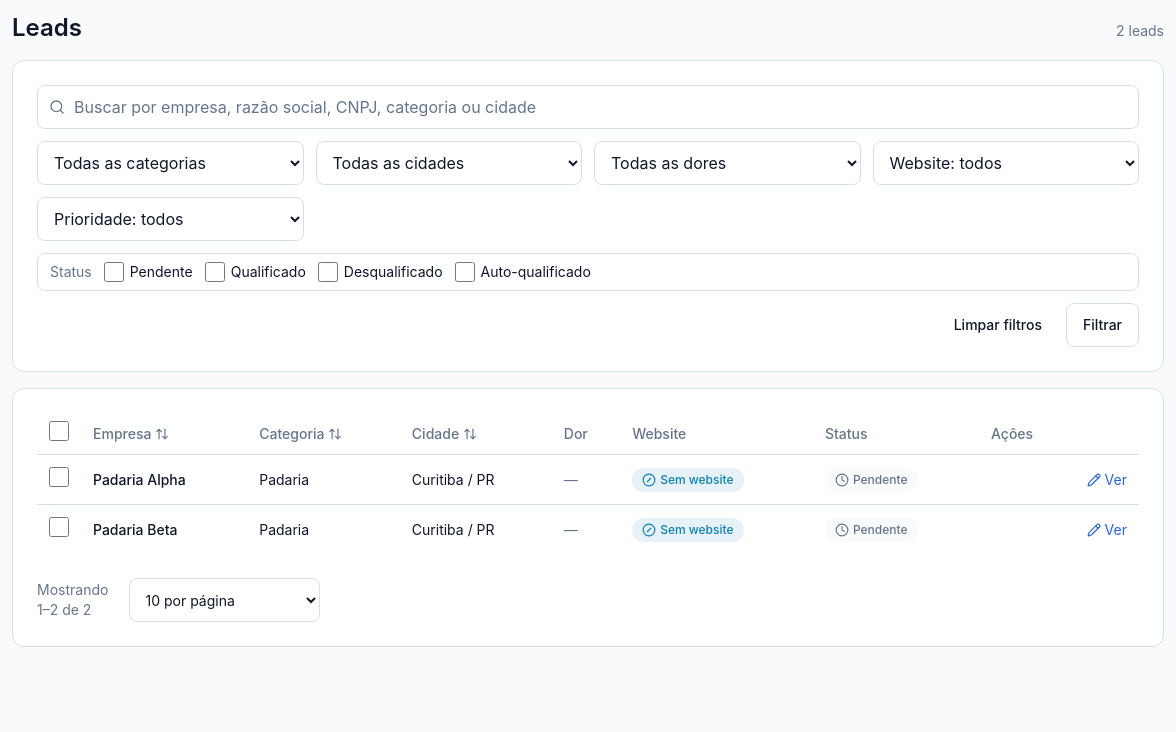
Test: LeadsPage › selects rows and updates the selection bar
This screenshot has width=1176, height=732.
Click the checkbox named "Selecionar todos da página" at (59, 431), box [49,421,69,441]
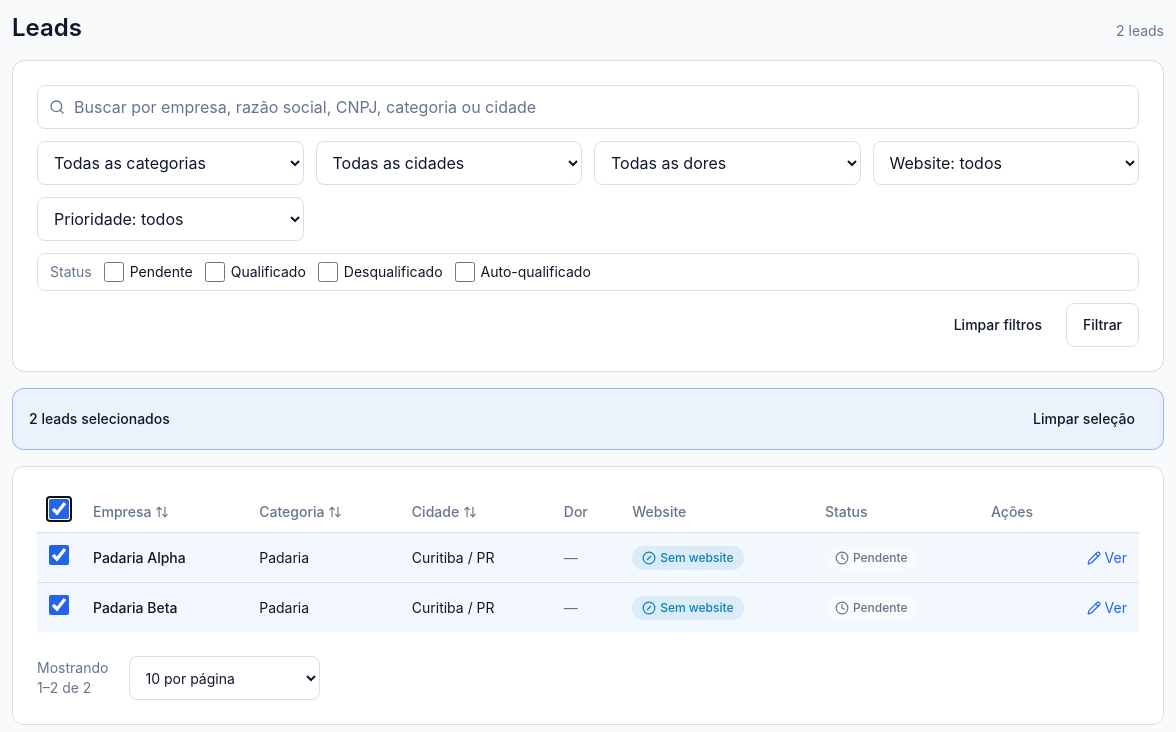
Check: the text "2 leads selecionados" is shown, box [29,409,170,429]
Click the checkbox named "Selecionar Padaria Alpha" at (59, 555), box [49,545,69,565]
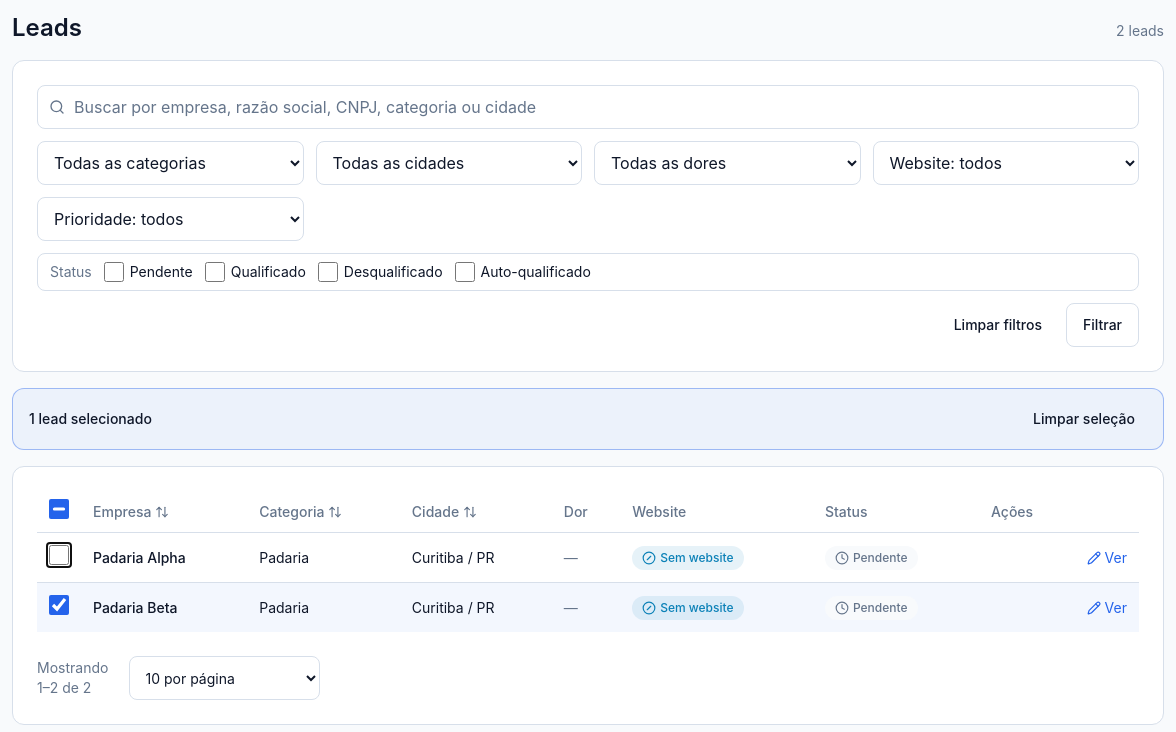
Check: the text "1 lead selecionado" is shown, box [29,409,152,429]
